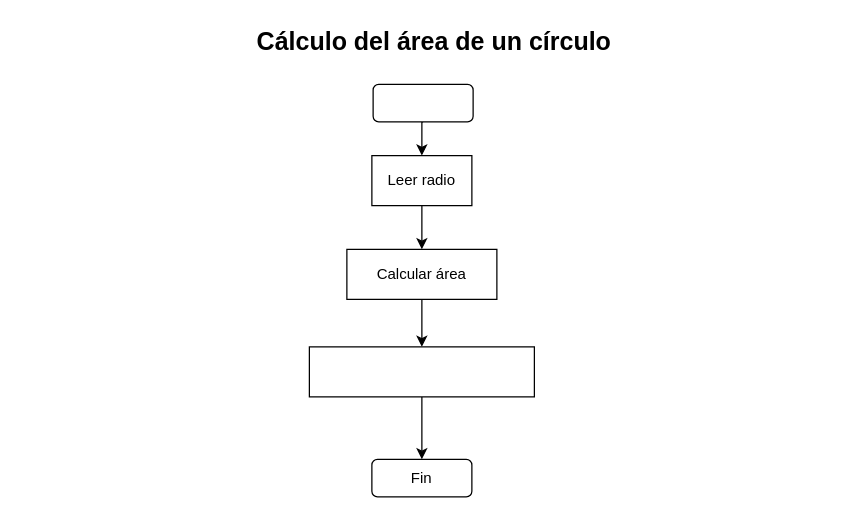
The diagram is 868 pixels wide and 519 high, and some of its shapes have lost their labels. Each missing label, with the centre of its shape:
"Inicio" goes at point 422,102.
"Presentar datos por pantalla" goes at point 421,371.
